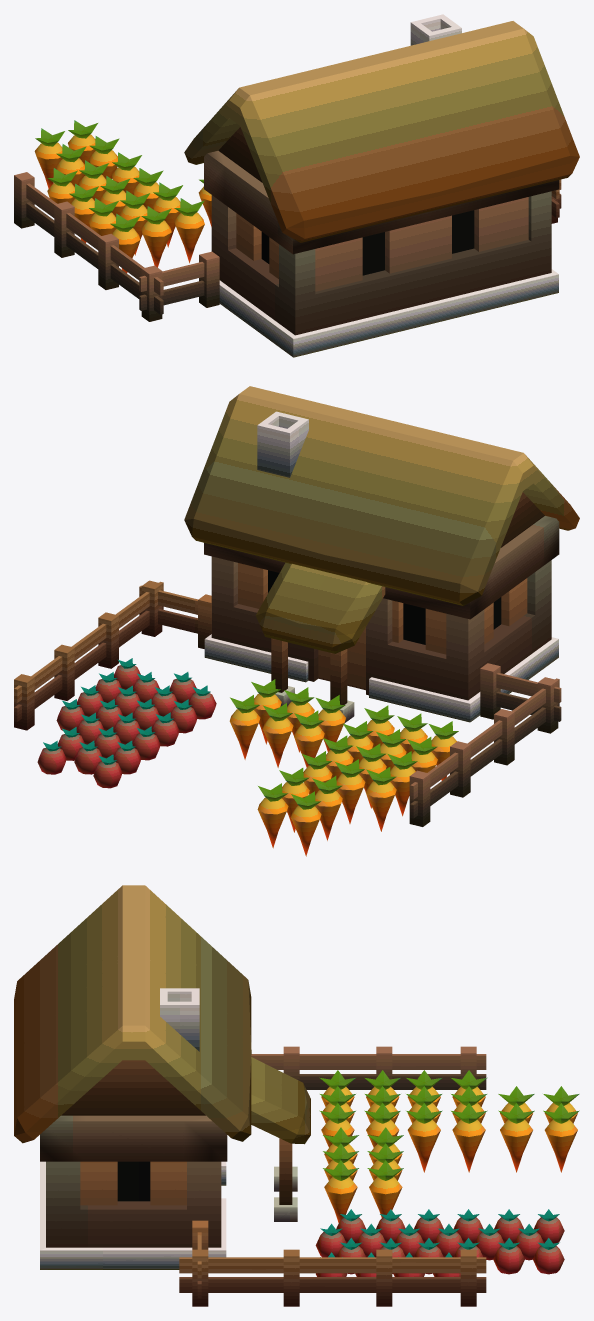
Rendered from simple_low_poly_farm_lvl3.glb.
3 views of the same model, one above another, from view 1: azimuth 30°, elevation 25°; view 2: azimuth 150°, elevation 25°; view 3: azimuth 270°, elevation 25° (orthographic). The views are drawn at different scales.
Visible parts, largest first — view 1: farm_lvl3_Material #25_0; view 2: farm_lvl3_Material #25_0; view 3: farm_lvl3_Material #25_0.
Part boxes in pixels (box(x1,y1,x2,y2)): farm_lvl3_Material #25_0: box(14, 14, 579, 357); farm_lvl3_Material #25_0: box(14, 386, 579, 856); farm_lvl3_Material #25_0: box(14, 885, 579, 1306).
Bounding box in the file's own units: 6.43 × 3.71 × 7.14.
Materials: 1 (1 with a texture image).
